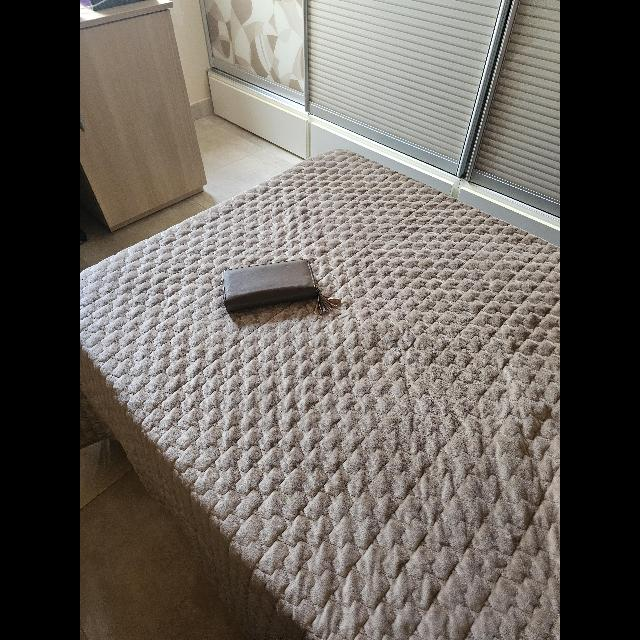Wallet: (219, 256, 337, 316)
